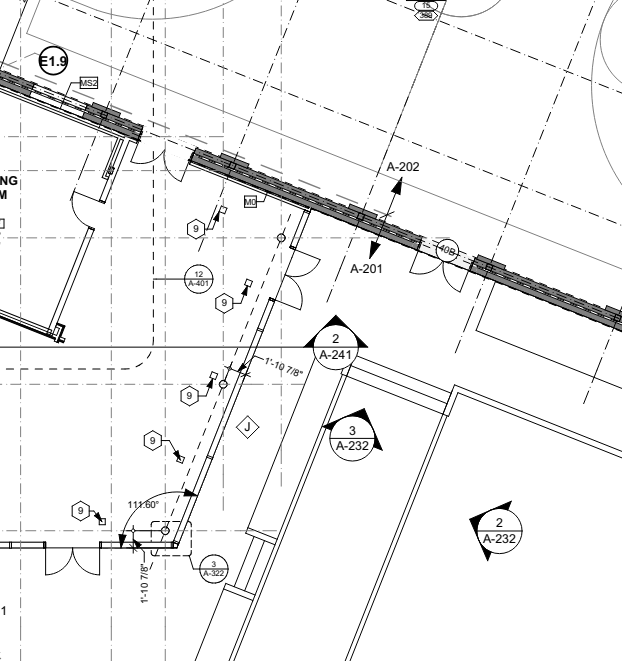door: (65, 188, 106, 232)
double door: (126, 127, 198, 190), (406, 242, 472, 300), (268, 245, 321, 312), (42, 536, 104, 580)
